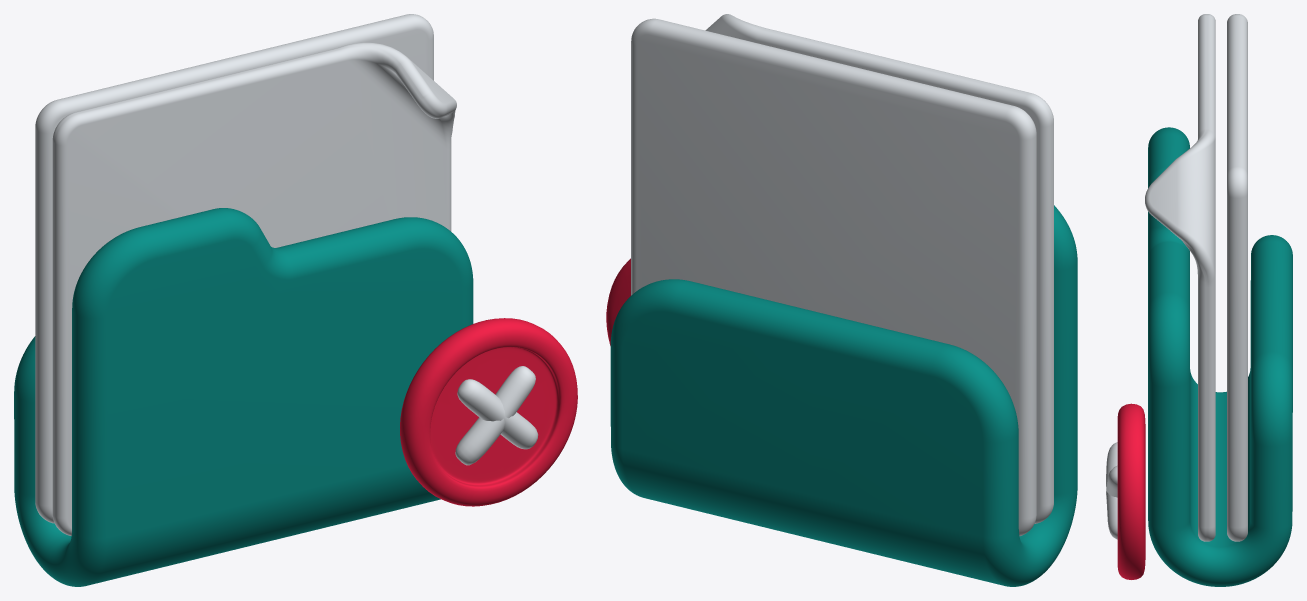
Rendered from blank-document-3d-animated-icon-222111605943.glb.
3 views of the same model, side by side, from view 1: azimuth 30°, elevation 25°; view 2: azimuth 150°, elevation 25°; view 3: azimuth 270°, elevation 25° (orthographic). The views are drawn at different scales.
Parts seen in each view (by area): view 1: FOLDER MAP, PAPER_001, X SIGN, PAPER_002, X.001; view 2: PAPER_002, FOLDER MAP, PAPER_001, X SIGN; view 3: FOLDER MAP, PAPER_001, PAPER_002, X SIGN, X.001.
Part boxes in pixels (<box>): FOLDER MAP: <box>14,208,473,586</box>; PAPER_001: <box>52,42,456,535</box>; X SIGN: <box>400,318,577,506</box>; PAPER_002: <box>35,14,433,523</box>; X.001: <box>455,366,538,465</box>; PAPER_002: <box>631,18,1036,536</box>; FOLDER MAP: <box>610,205,1077,586</box>; PAPER_001: <box>705,14,1053,523</box>; X SIGN: <box>606,258,630,345</box>; FOLDER MAP: <box>1148,127,1292,586</box>; PAPER_001: <box>1145,14,1215,541</box>; PAPER_002: <box>1227,14,1247,541</box>; X SIGN: <box>1117,403,1145,579</box>; X.001: <box>1106,442,1117,539</box>.
Size of the model in its own units: 1.2 by 1.13 by 0.4585.
